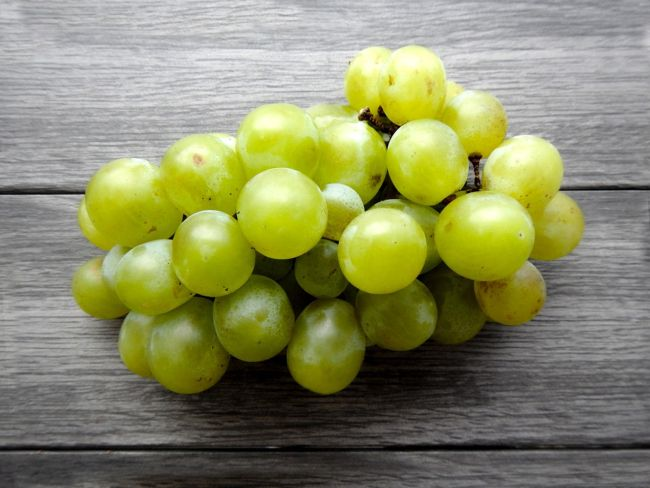Green grapes: (59, 43, 574, 403)
